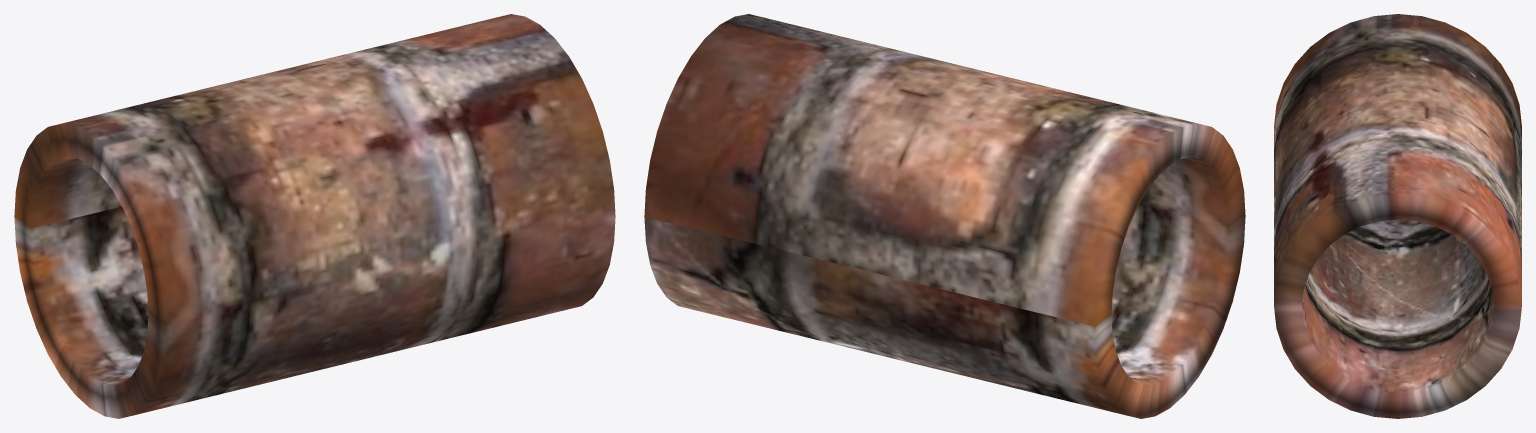
Rendered from Short_Straight_Sewer_03.fbx.
3 views of the same model, side by side, from view 1: azimuth 30°, elevation 25°; view 2: azimuth 150°, elevation 25°; view 3: azimuth 270°, elevation 25° (orthographic). The views are drawn at different scales.
Parts seen in each view (by area): view 1: Short_Straight; view 2: Short_Straight; view 3: Short_Straight.
Part boxes in pixels (x1,y1,x2,y2): Short_Straight: [14, 14, 615, 418]; Short_Straight: [644, 14, 1245, 418]; Short_Straight: [1274, 14, 1521, 418].
Size of what is drawn, in the model's own units: 2000 by 1162 by 1162.
